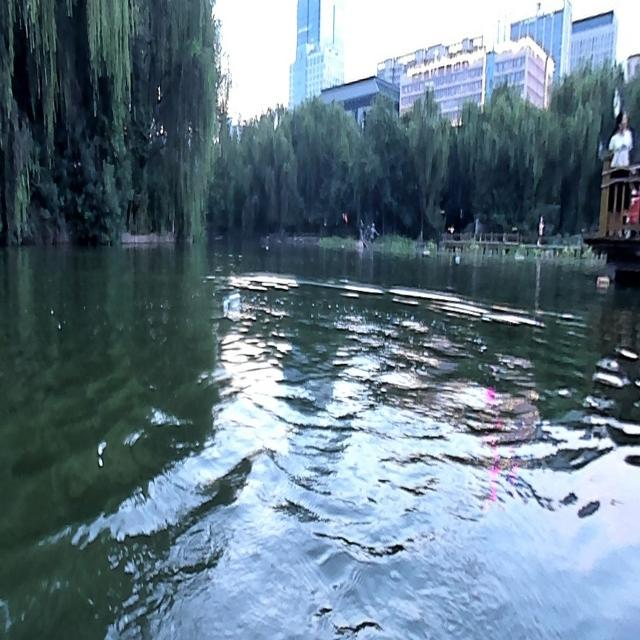bottle: (222, 290, 240, 312), (596, 274, 610, 287)
